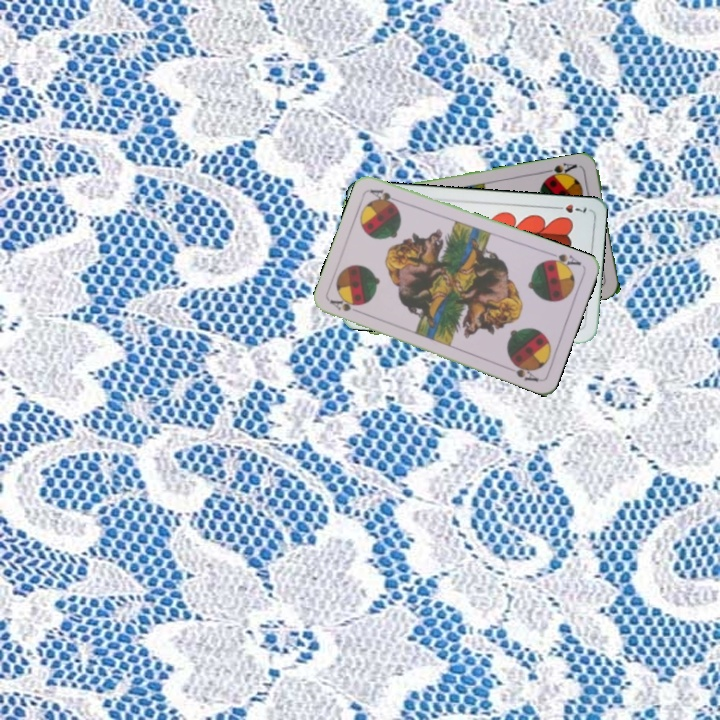H7: (550, 200, 589, 215)
SA: (543, 248, 584, 272), (326, 295, 366, 317), (543, 159, 580, 181)
